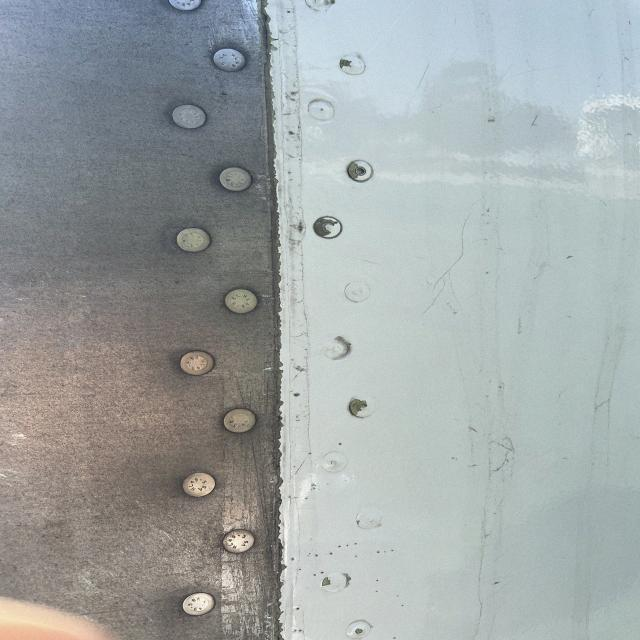crack: (414, 227, 494, 320), (474, 432, 518, 472)
